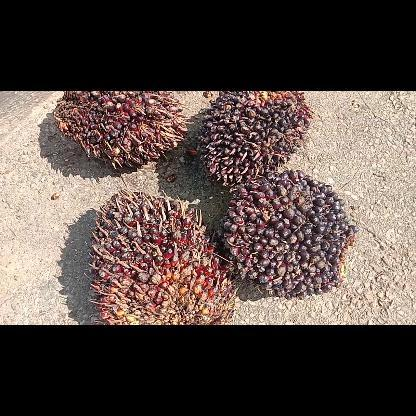TBS mentah: (84, 188, 238, 324), (216, 170, 358, 298), (197, 91, 309, 190), (53, 91, 193, 169)
